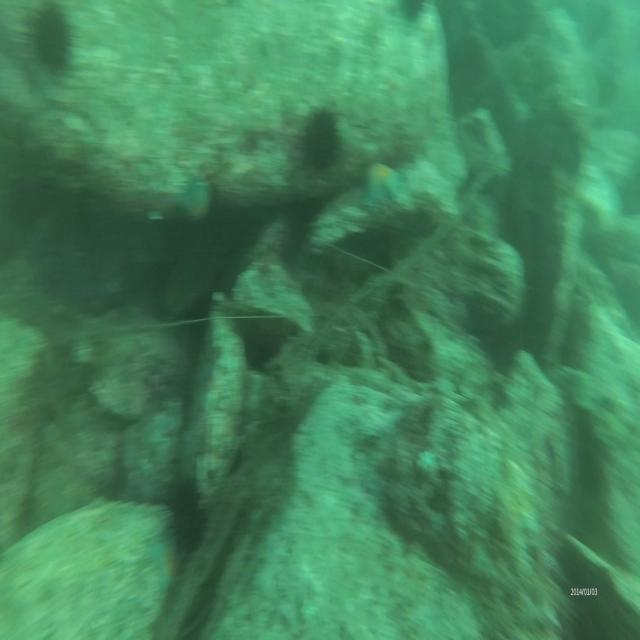echinus: (291, 94, 350, 186), (25, 2, 86, 83), (394, 0, 429, 33)
starfish: (358, 152, 404, 206), (175, 178, 215, 222)
